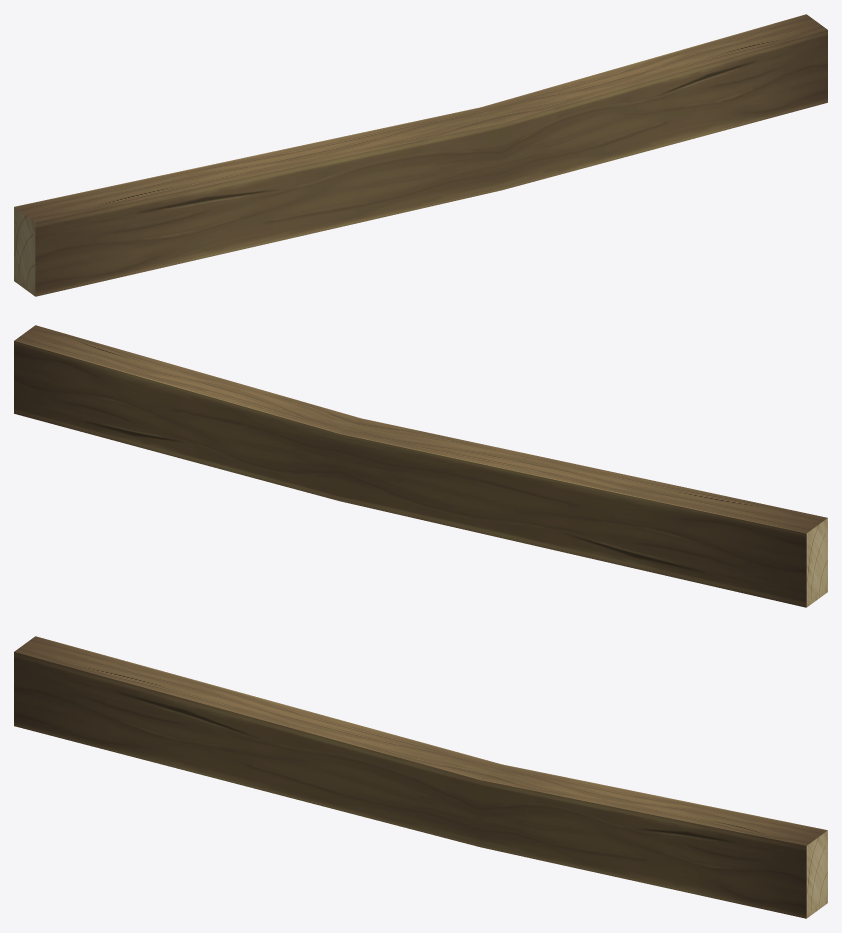
3 renders of one model, top to bottom at view 1: azimuth 30°, elevation 25°; view 2: azimuth 150°, elevation 25°; view 3: azimuth 330°, elevation 25°, orthographic.
Visible parts, largest first — view 1: part_07b:Mesh; view 2: part_07b:Mesh; view 3: part_07b:Mesh.
Part boxes in pixels (left/top/right/bottom): part_07b:Mesh: left=14, top=14, right=827, bottom=296; part_07b:Mesh: left=14, top=325, right=827, bottom=607; part_07b:Mesh: left=14, top=636, right=827, bottom=918.
Size of the model in its own units: 6.98 by 0.6862 by 0.3274.
